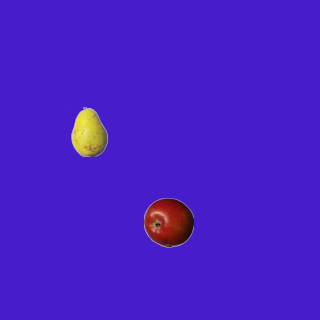Apple Braeburn: (143, 197, 193, 247)
Pear Monster: (64, 106, 114, 156)
